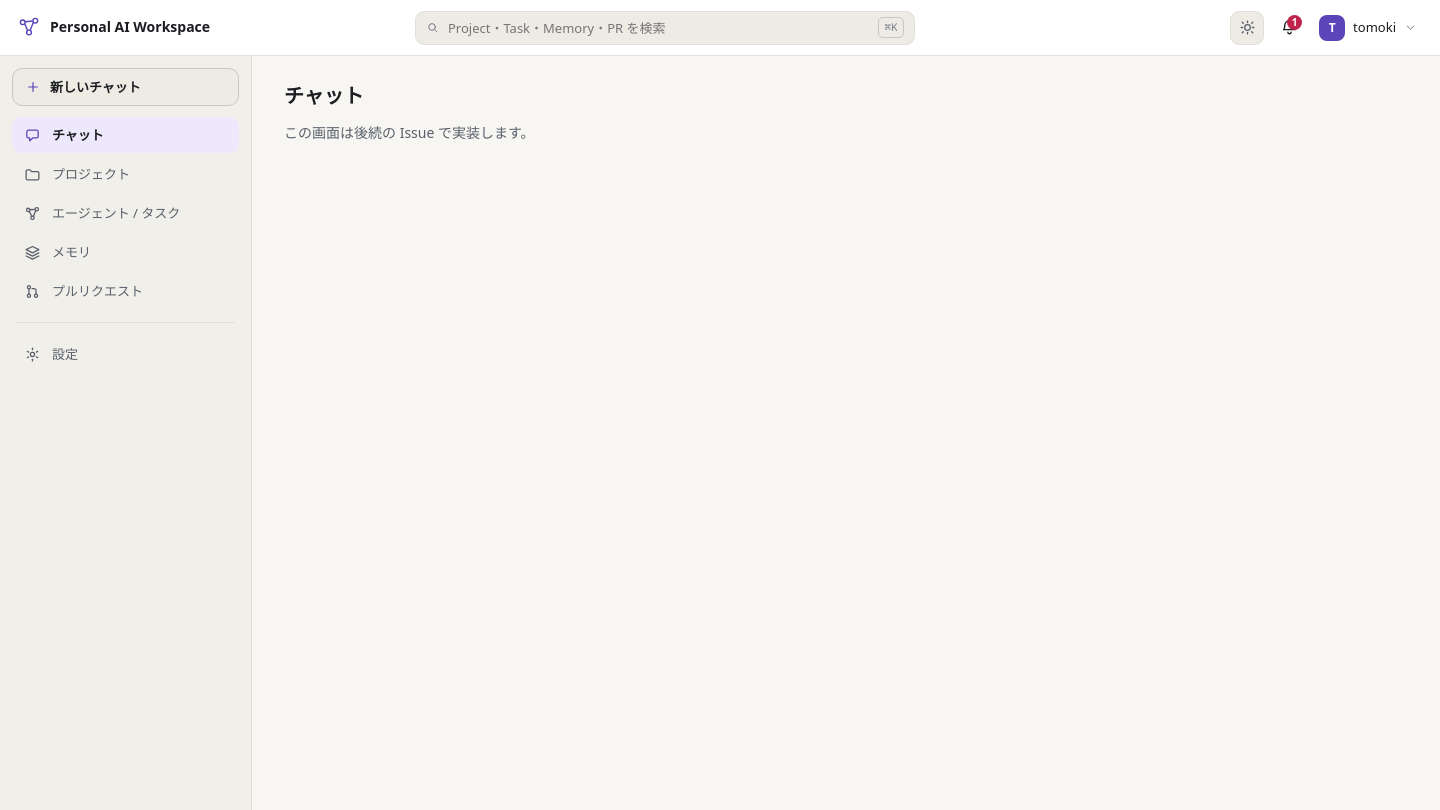
Test: pending device approvals as notifications › forgets the notifications when the account signs out
Expected: the button named "通知 1 件未読" is shown, [1272,10,1306,44]
Click the button with aria-label "アカウントメニュー" at (1370, 28), box [1314,10,1426,44]
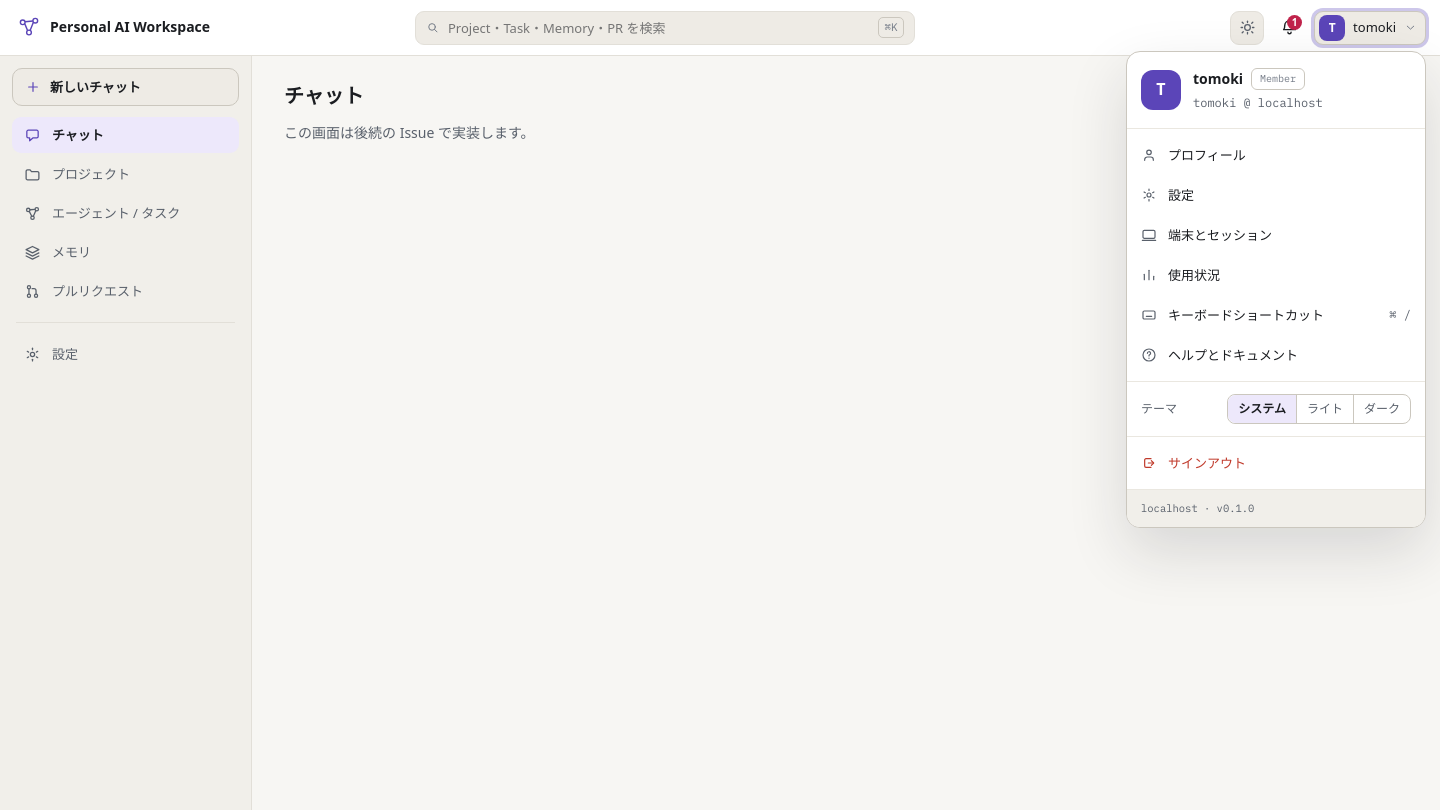
Click the button "サインアウト" at (1207, 463), box [1127,443,1425,483]
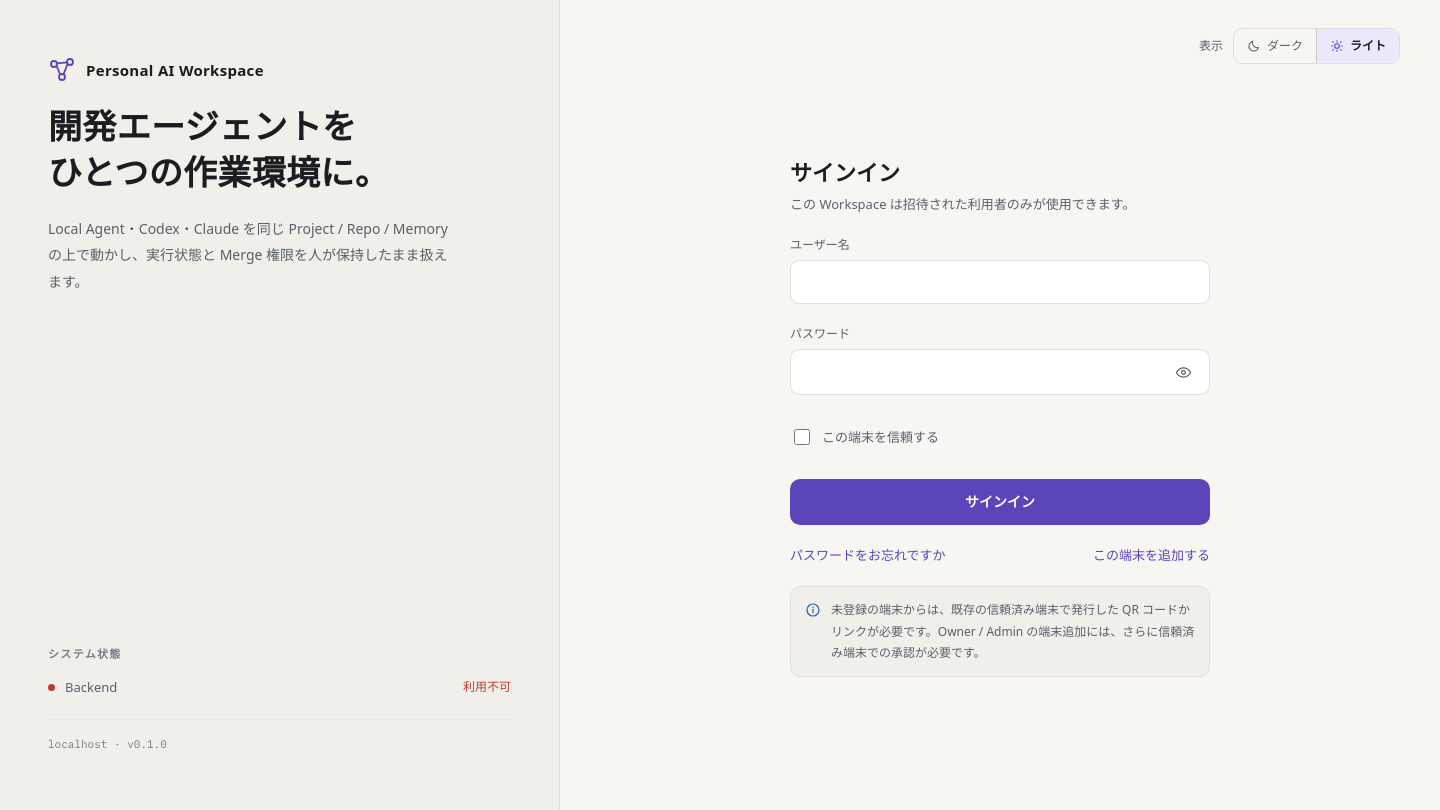
Type "other" into the field labelled "ユーザー名" at (1000, 282), box [790,260,1210,304]
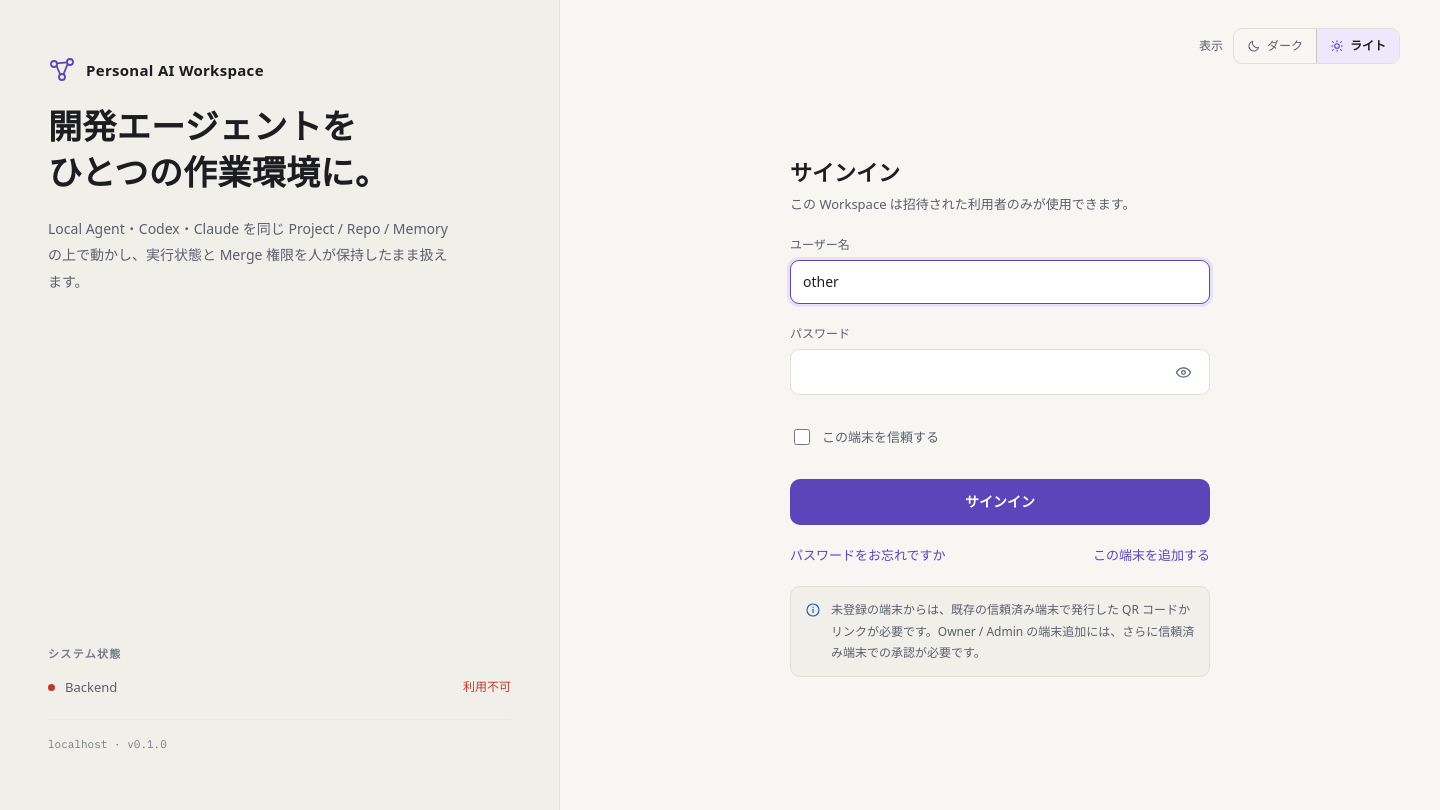
Type "correct horse" into the password field labelled "パスワード" at (974, 372), box [791,350,1156,394]
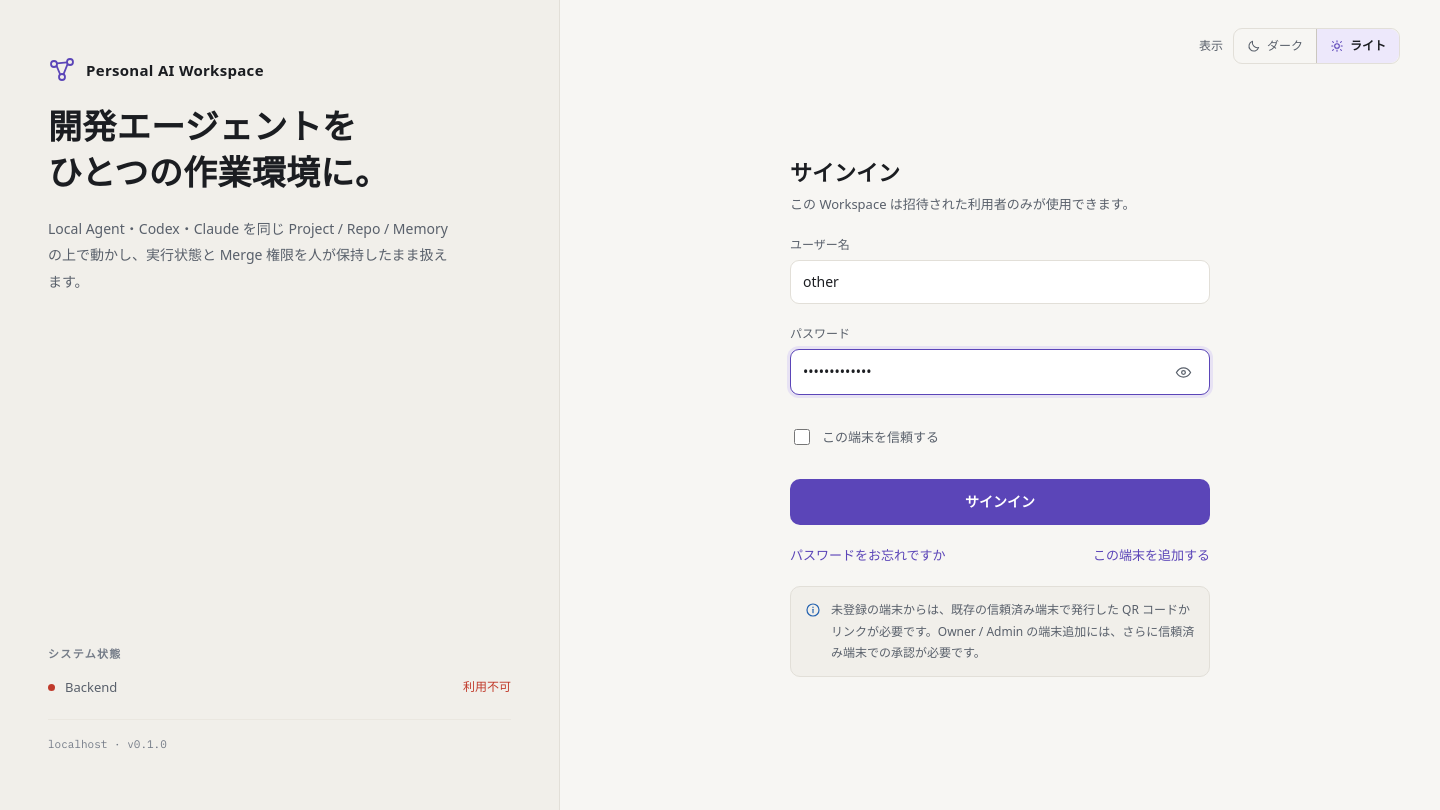
Click the button "サインイン" at (1000, 502), box [790,479,1210,525]
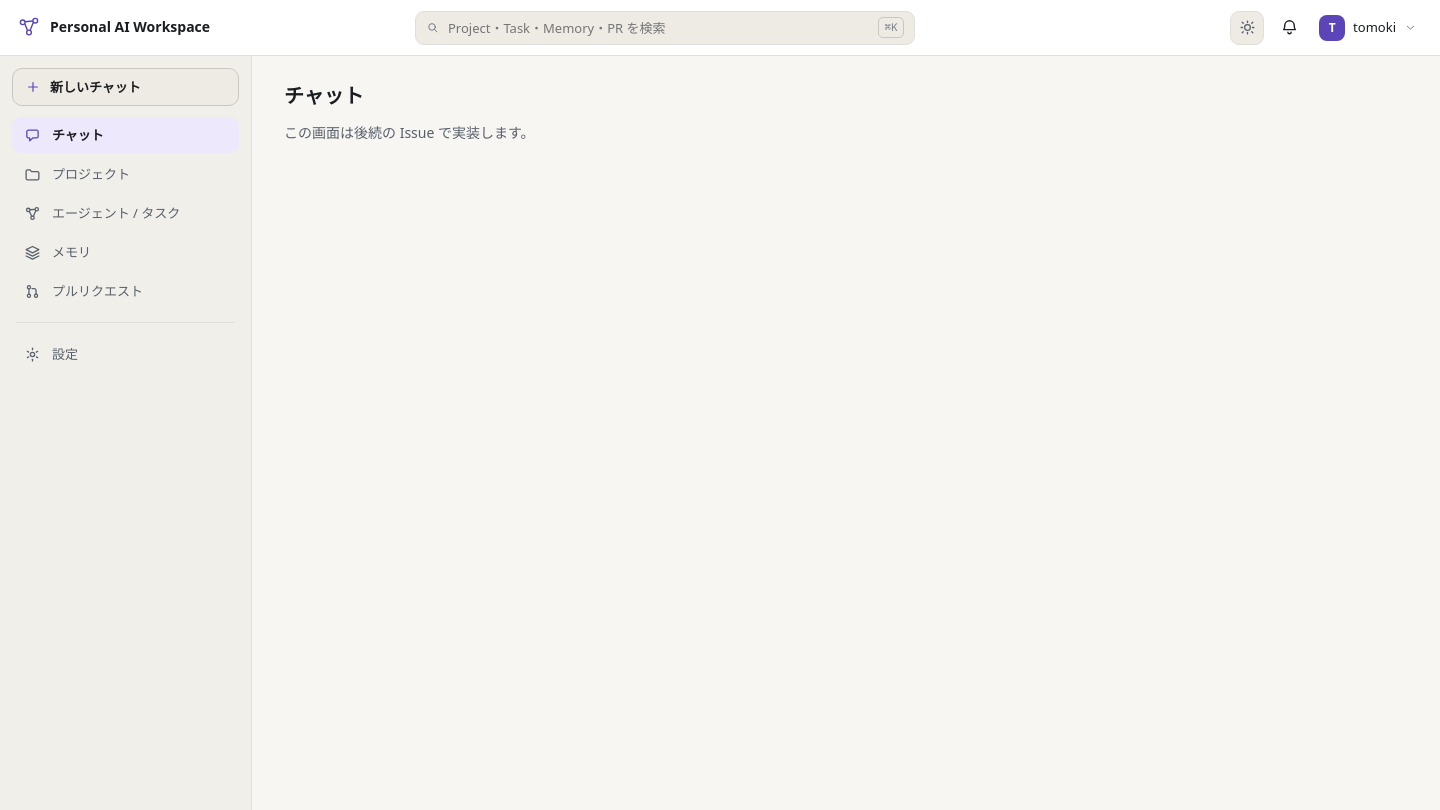
Expected: the navigation bar named "メインナビゲーション" is shown, [0,56,252,809]
Expected: the button named "通知" is shown, [1272,10,1306,44]
